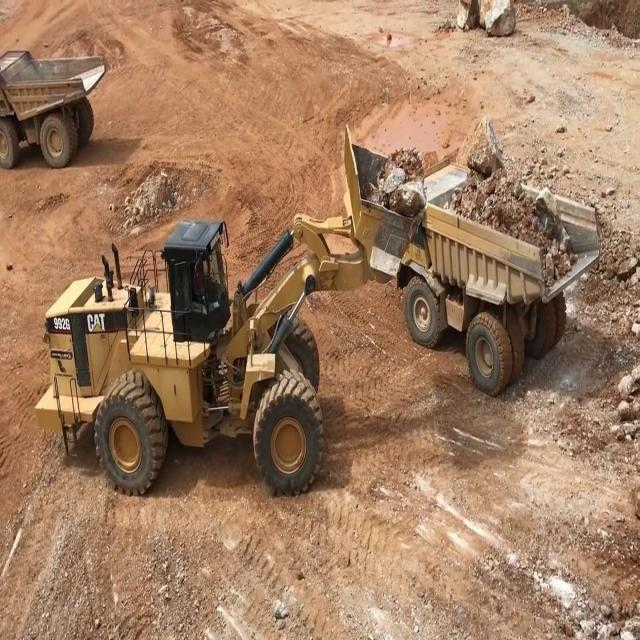Dump Truck: (394, 152, 600, 397), (0, 44, 108, 170)
Loader: (35, 123, 432, 501)
